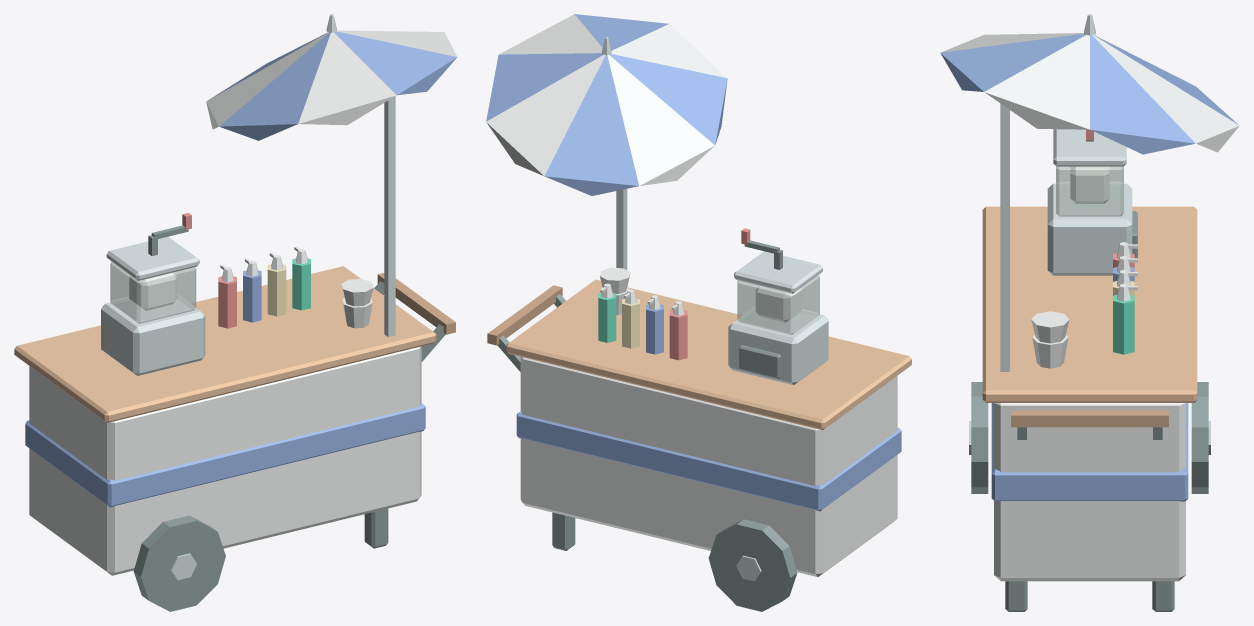
File: shaved_ice_cart.glb
The picture shows the model from 3 angles, left to right: view 1: azimuth 30°, elevation 25°; view 2: azimuth 150°, elevation 25°; view 3: azimuth 270°, elevation 25°; orthographic projection. The views are drawn at different scales.
Visible parts, largest first — view 1: ShavedIceCart; view 2: ShavedIceCart; view 3: ShavedIceCart.
Boxes of the visible parts, x1,y1,x2,y2 form: ShavedIceCart: [14, 14, 457, 611]; ShavedIceCart: [486, 14, 911, 611]; ShavedIceCart: [940, 14, 1239, 611].
Size of the model in its own units: 0.8227 by 1.04 by 0.4818.
